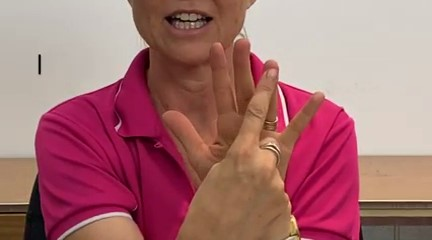I: (151, 29, 331, 236)
